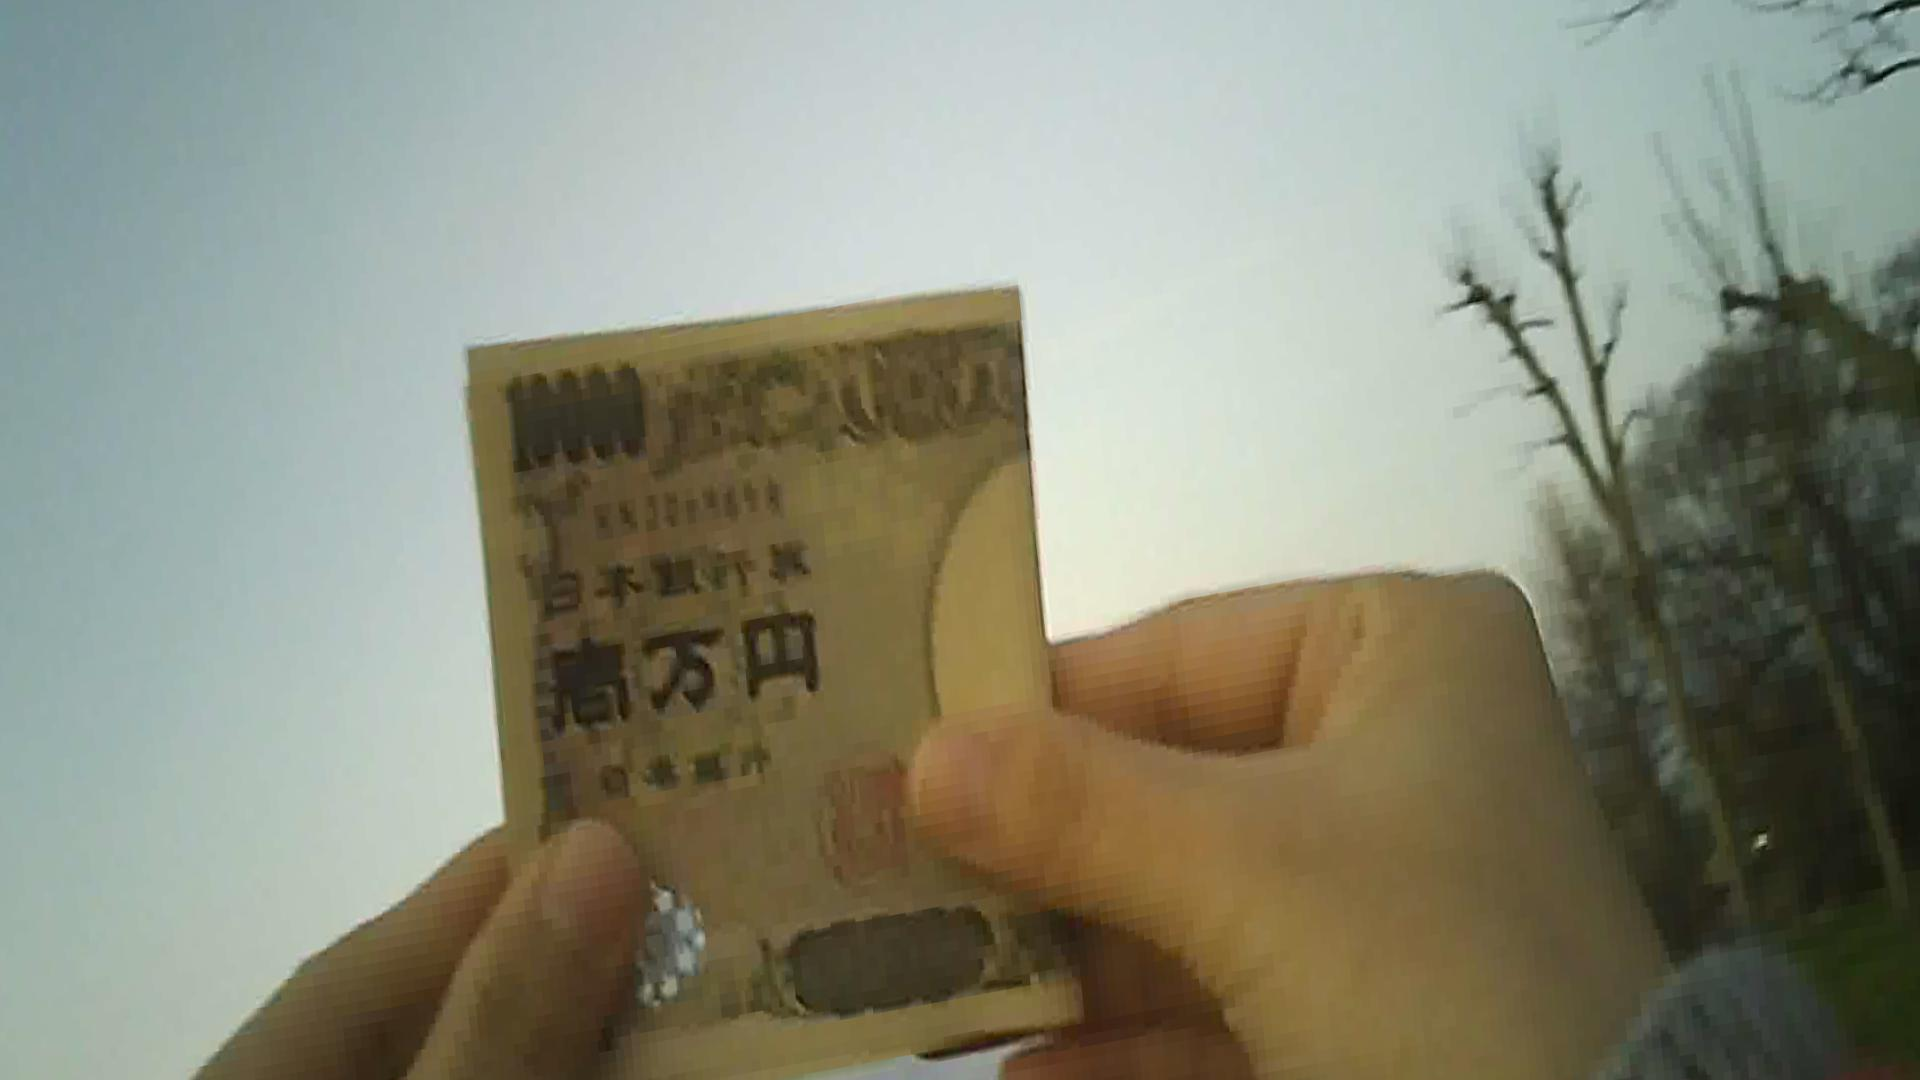10,000 Yen: (446, 313, 1095, 1044)
